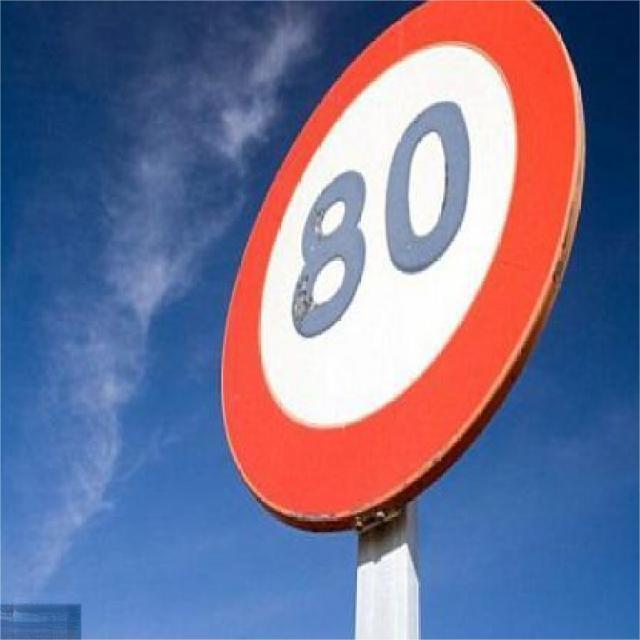speed limit 80: (216, 2, 590, 528)
